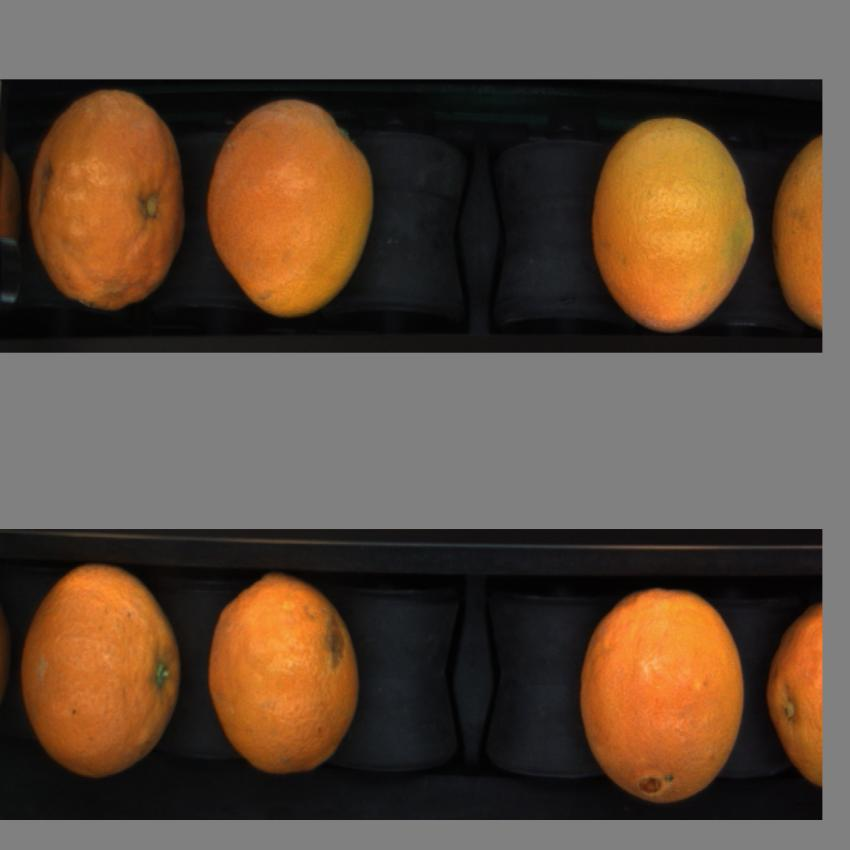Buen estado: (585, 102, 763, 333), (203, 96, 383, 320), (578, 581, 749, 805), (17, 557, 188, 780), (766, 596, 823, 781), (772, 121, 822, 324)
Mal estado: (26, 81, 189, 316), (203, 568, 370, 776)
